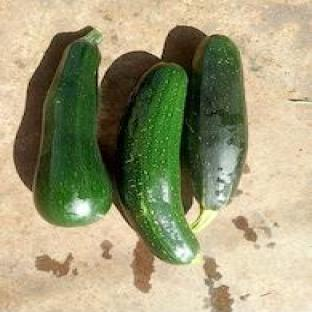Zucchini: (117, 63, 198, 263), (34, 30, 111, 226), (183, 35, 247, 230)
